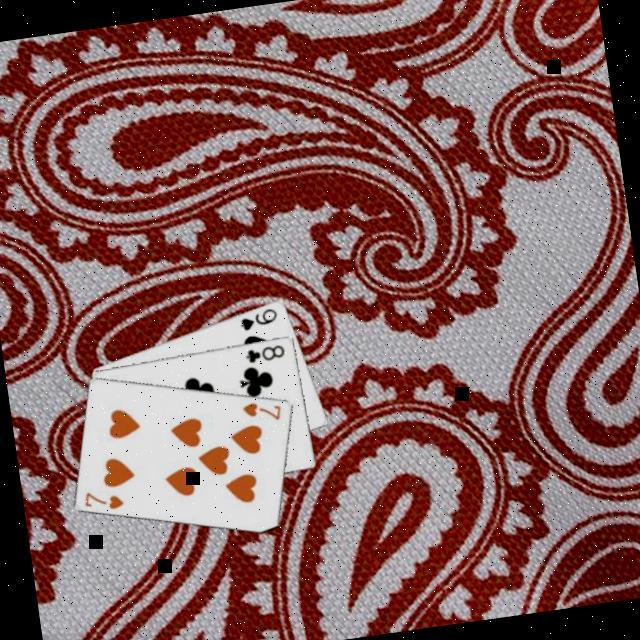7H: (237, 397, 284, 430), (79, 486, 126, 518)
8C: (241, 342, 287, 368)
9S: (234, 307, 281, 337)
